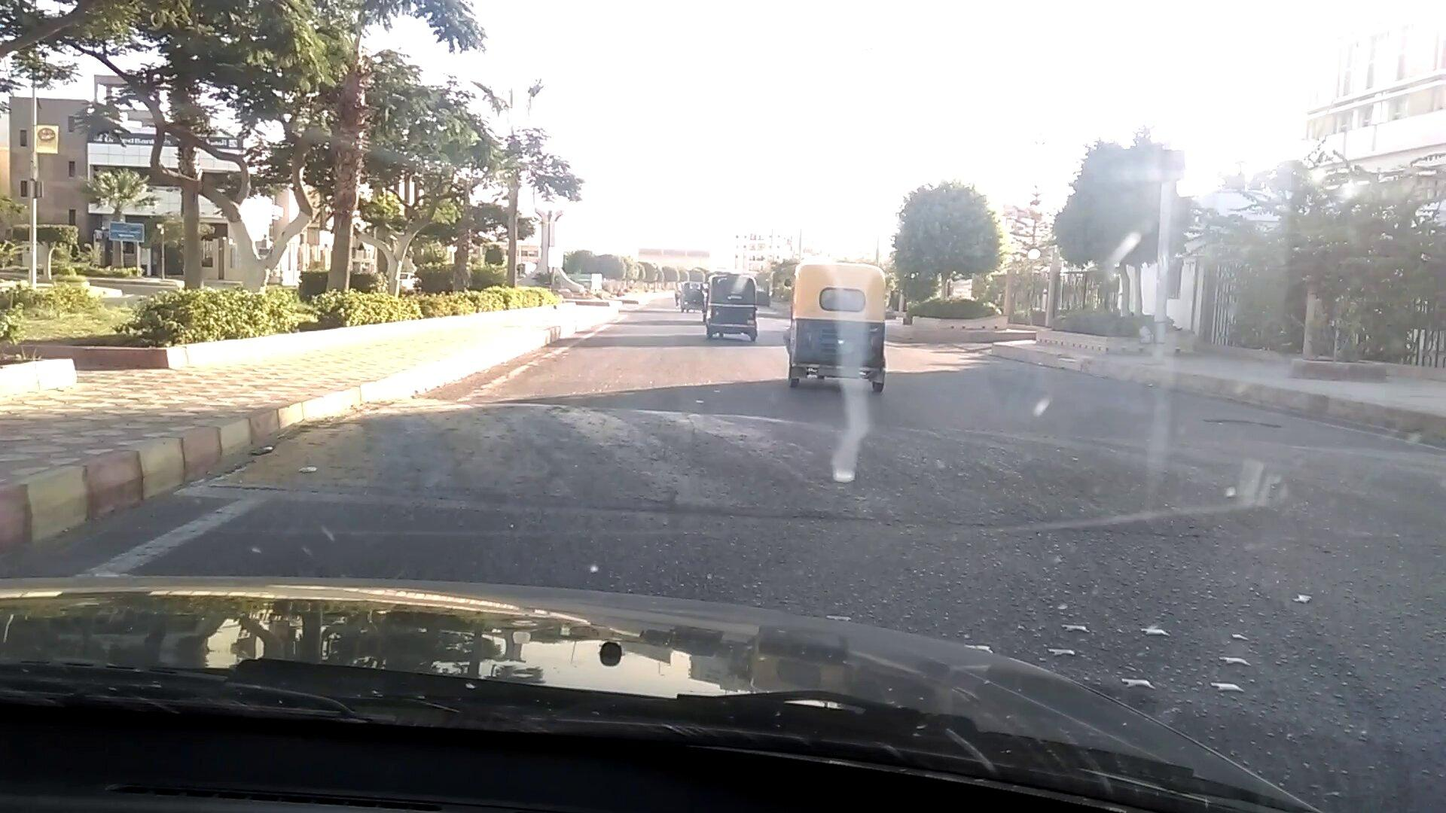Bump: (410, 395, 1446, 574)
